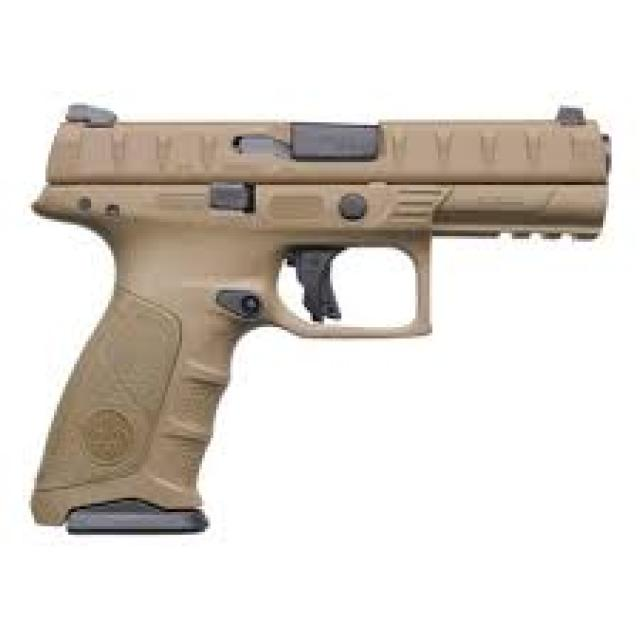pistol: (21, 97, 624, 545)
